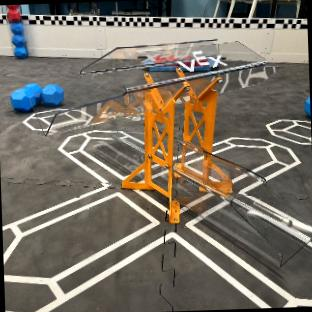Low_goal: (171, 137, 312, 243)
Med_goal: (33, 39, 311, 263)
V5_BLUE: (11, 84, 64, 112), (304, 98, 310, 115)
